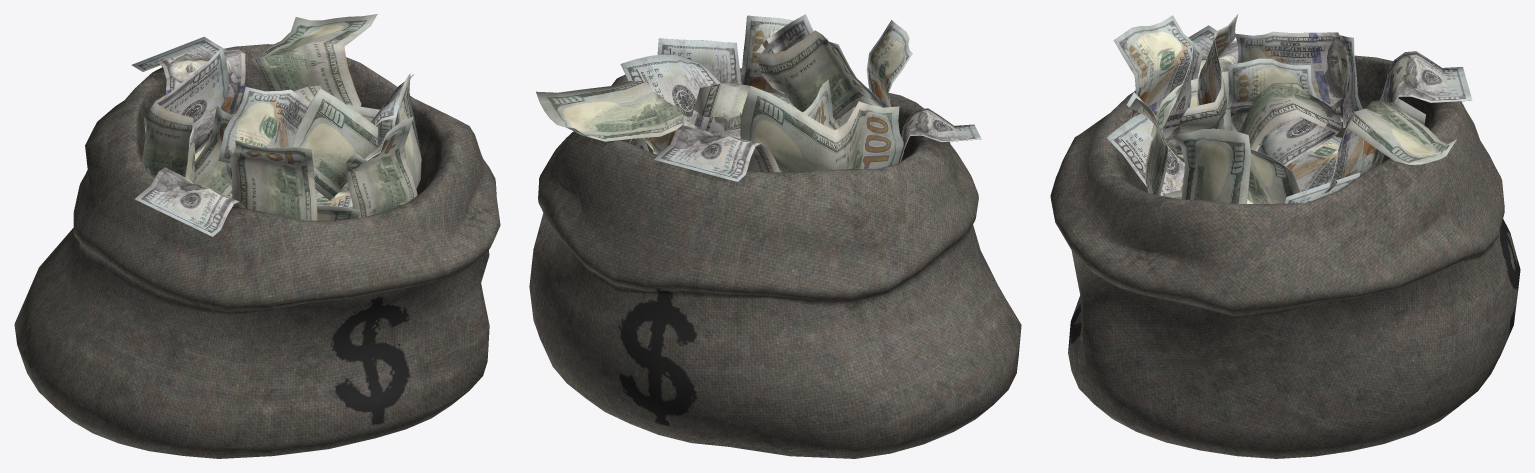
Rendered from MondeyBags.fbx.
The picture shows the model from 3 angles, left to right: view 1: azimuth 30°, elevation 25°; view 2: azimuth 150°, elevation 25°; view 3: azimuth 270°, elevation 25°; orthographic projection. The views are drawn at different scales.
Parts seen in each view (by area): view 1: Sphere; view 2: Sphere; view 3: Sphere.
Boxes of the visible parts, x1,y1,x2,y2 form: Sphere: (14, 14, 500, 458); Sphere: (529, 14, 1021, 458); Sphere: (1050, 14, 1520, 458).
Size of the model in its own units: 11.47 by 8.4 by 10.37.
Materials: 1 (1 with a texture image).
